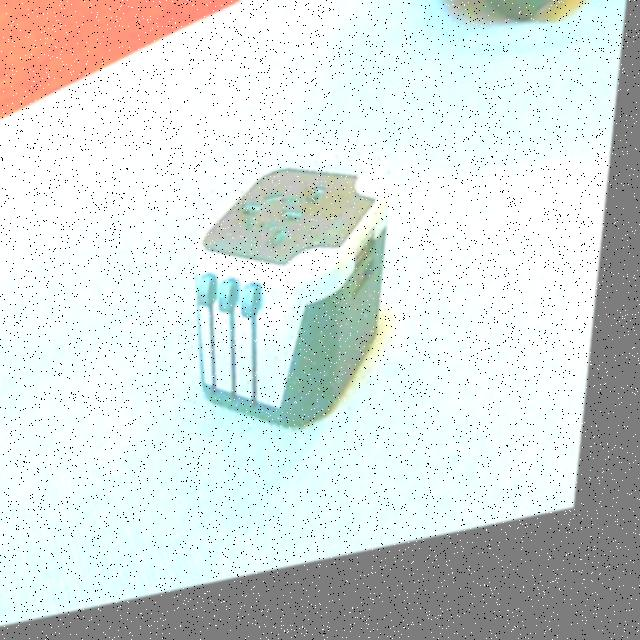adapter: (183, 160, 403, 465)
